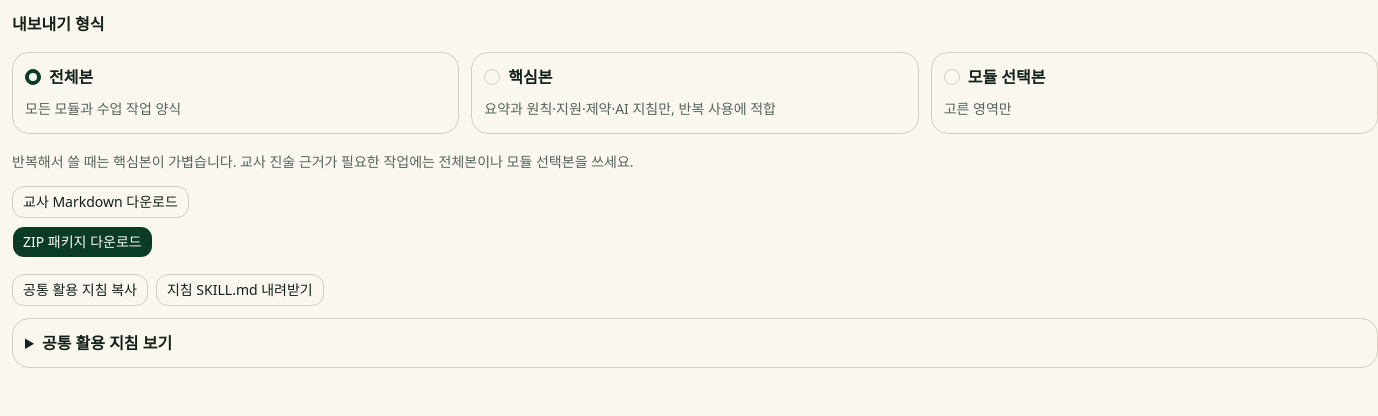
records a successful ZIP download independently of the selected Markdown variant
Click the 2nd radio button named "핵심본".
click(492, 77)  # box [484,69,500,85]
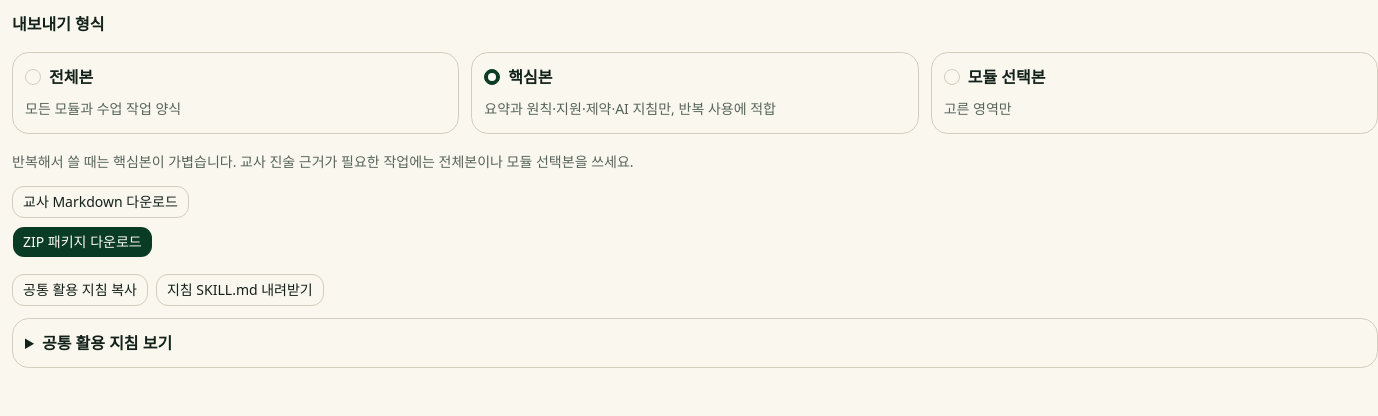
Click the button "ZIP 패키지 다운로드".
click(82, 242)  # box [12,226,153,258]
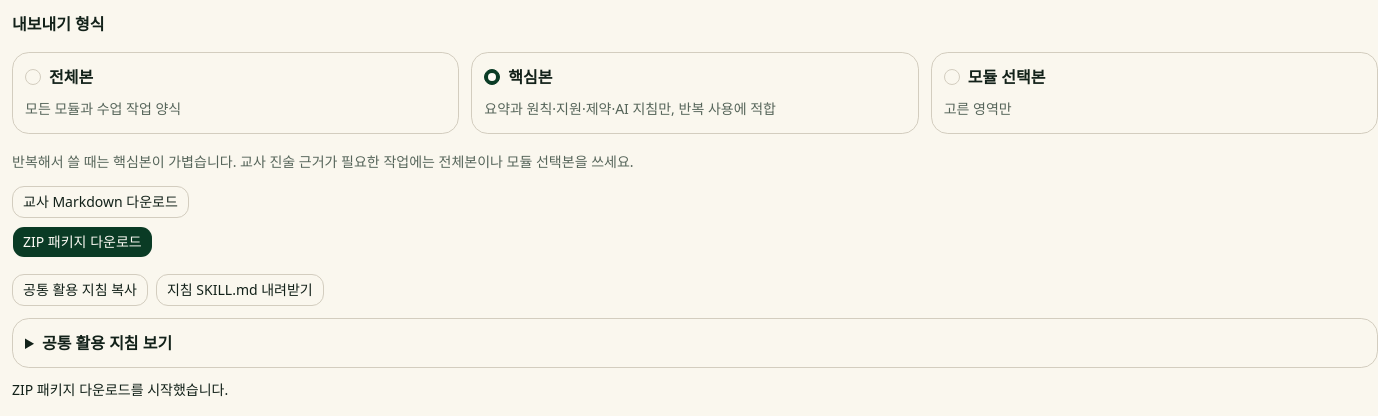
Expected: the message reads "ZIP 패키지 다운로드를 시작했습니다.", [12,380,228,399]
